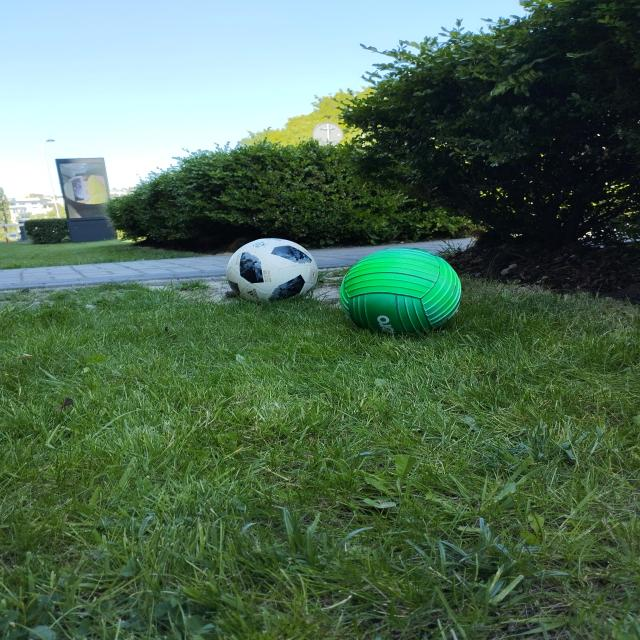nozna: (227, 237, 318, 303)
zielona: (341, 249, 462, 335)
